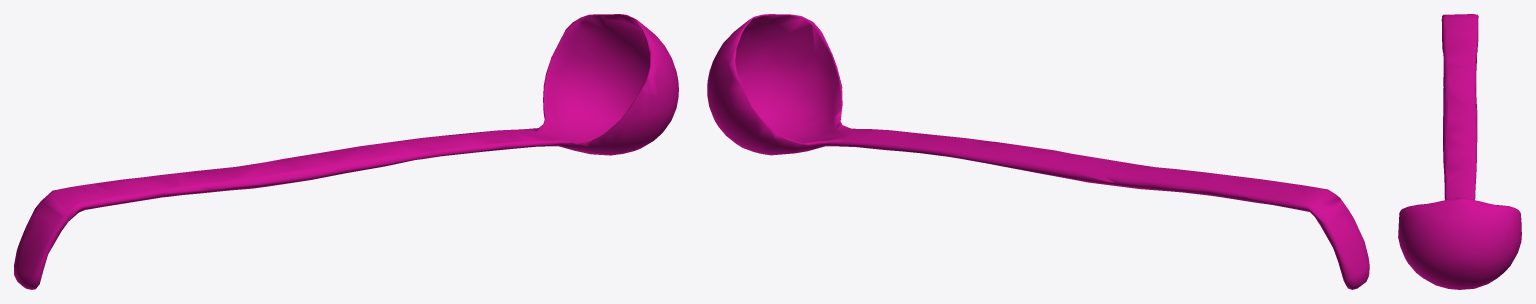
The model's file is ladle.dae.
3 renders of one model, left to right at view 1: azimuth 30°, elevation 25°; view 2: azimuth 150°, elevation 25°; view 3: azimuth 270°, elevation 25°, orthographic. The views are drawn at different scales.
Visible parts, largest first — view 1: geometry_0; view 2: geometry_0; view 3: geometry_0.
Boxes of the visible parts, x1,y1,x2,y2 form: geometry_0: [14, 14, 678, 289]; geometry_0: [707, 14, 1369, 289]; geometry_0: [1398, 14, 1521, 289].
Size of the model in its own units: 0.1988 by 0.0423 by 0.0361.
